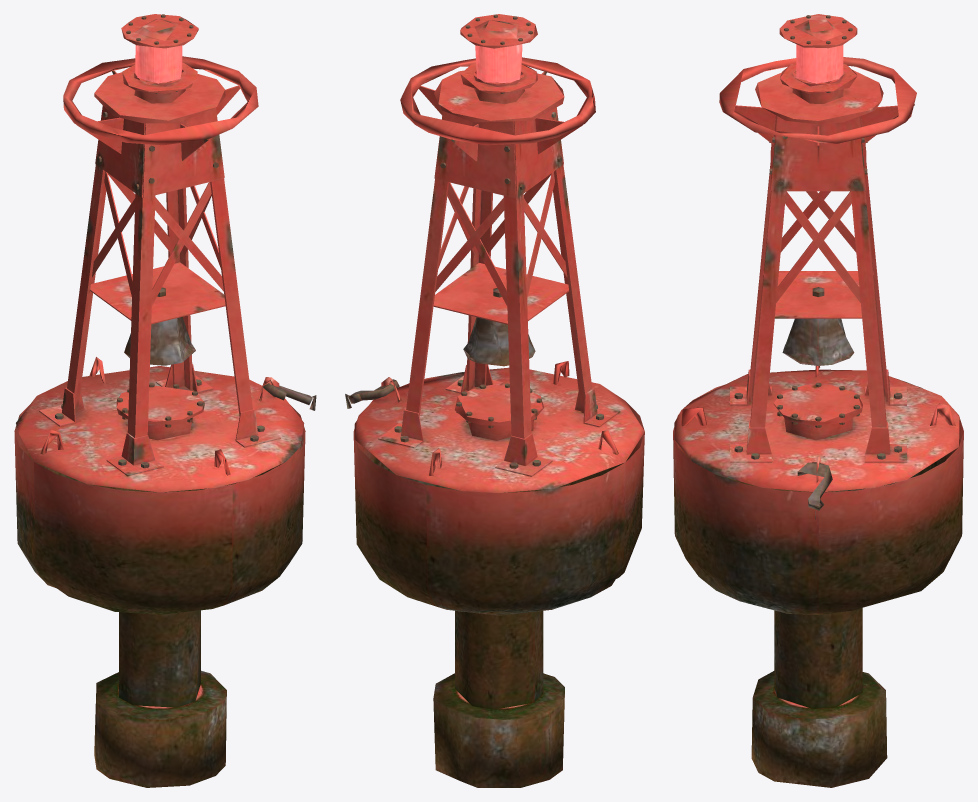
Rendered from ocean_buoy.glb.
3 views of the same model, side by side, from view 1: azimuth 30°, elevation 25°; view 2: azimuth 150°, elevation 25°; view 3: azimuth 270°, elevation 25° (orthographic).
Parts seen in each view (by area): view 1: ocean_buoy; view 2: ocean_buoy; view 3: ocean_buoy.
Part boxes in pixels (<box>): ocean_buoy: <box>14,14,316,787</box>; ocean_buoy: <box>345,14,644,787</box>; ocean_buoy: <box>673,14,963,787</box>.
Size of the model in its own units: 1.06 by 2.65 by 0.9521.
Materials: 1 (1 with a texture image).
